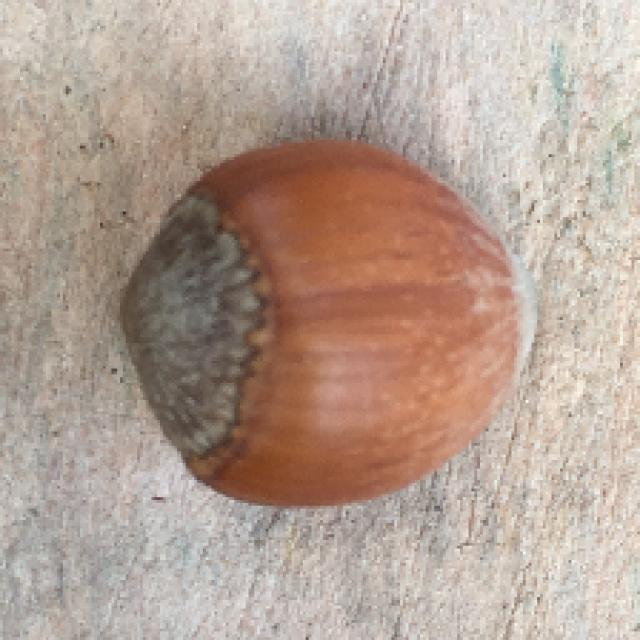QualityHazelnut: (122, 136, 536, 509)
